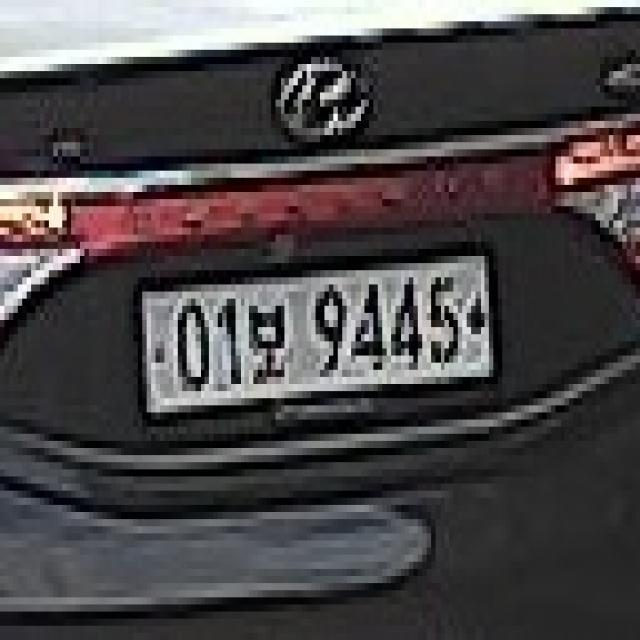0: (175, 292, 214, 398)
1: (216, 289, 244, 402)
4: (356, 277, 388, 375), (394, 269, 424, 372)
5: (428, 270, 460, 376)
9: (312, 273, 352, 383)
bo: (246, 284, 292, 394)
license_plate: (132, 233, 508, 437)
